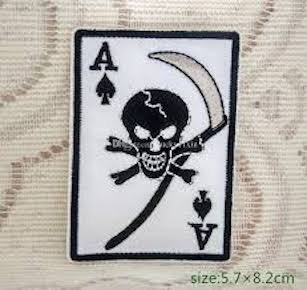AceOfSpades: (63, 22, 235, 266)
